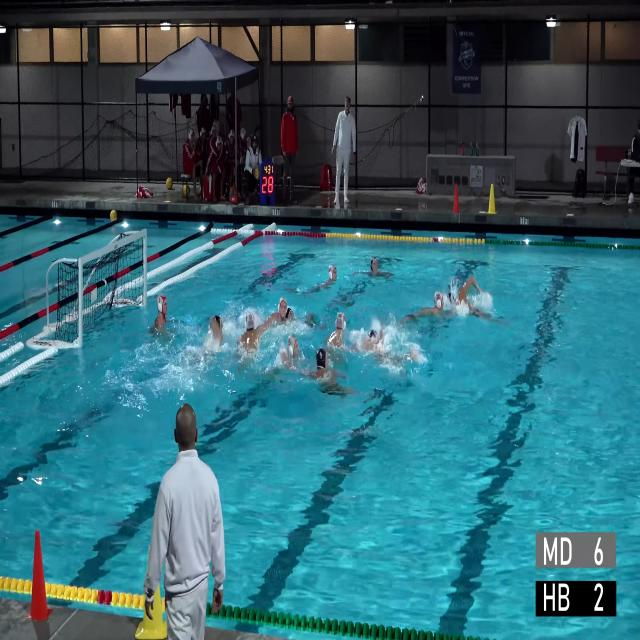ball: (166, 177, 173, 190), (183, 184, 190, 197), (254, 167, 260, 180), (110, 210, 117, 221)
